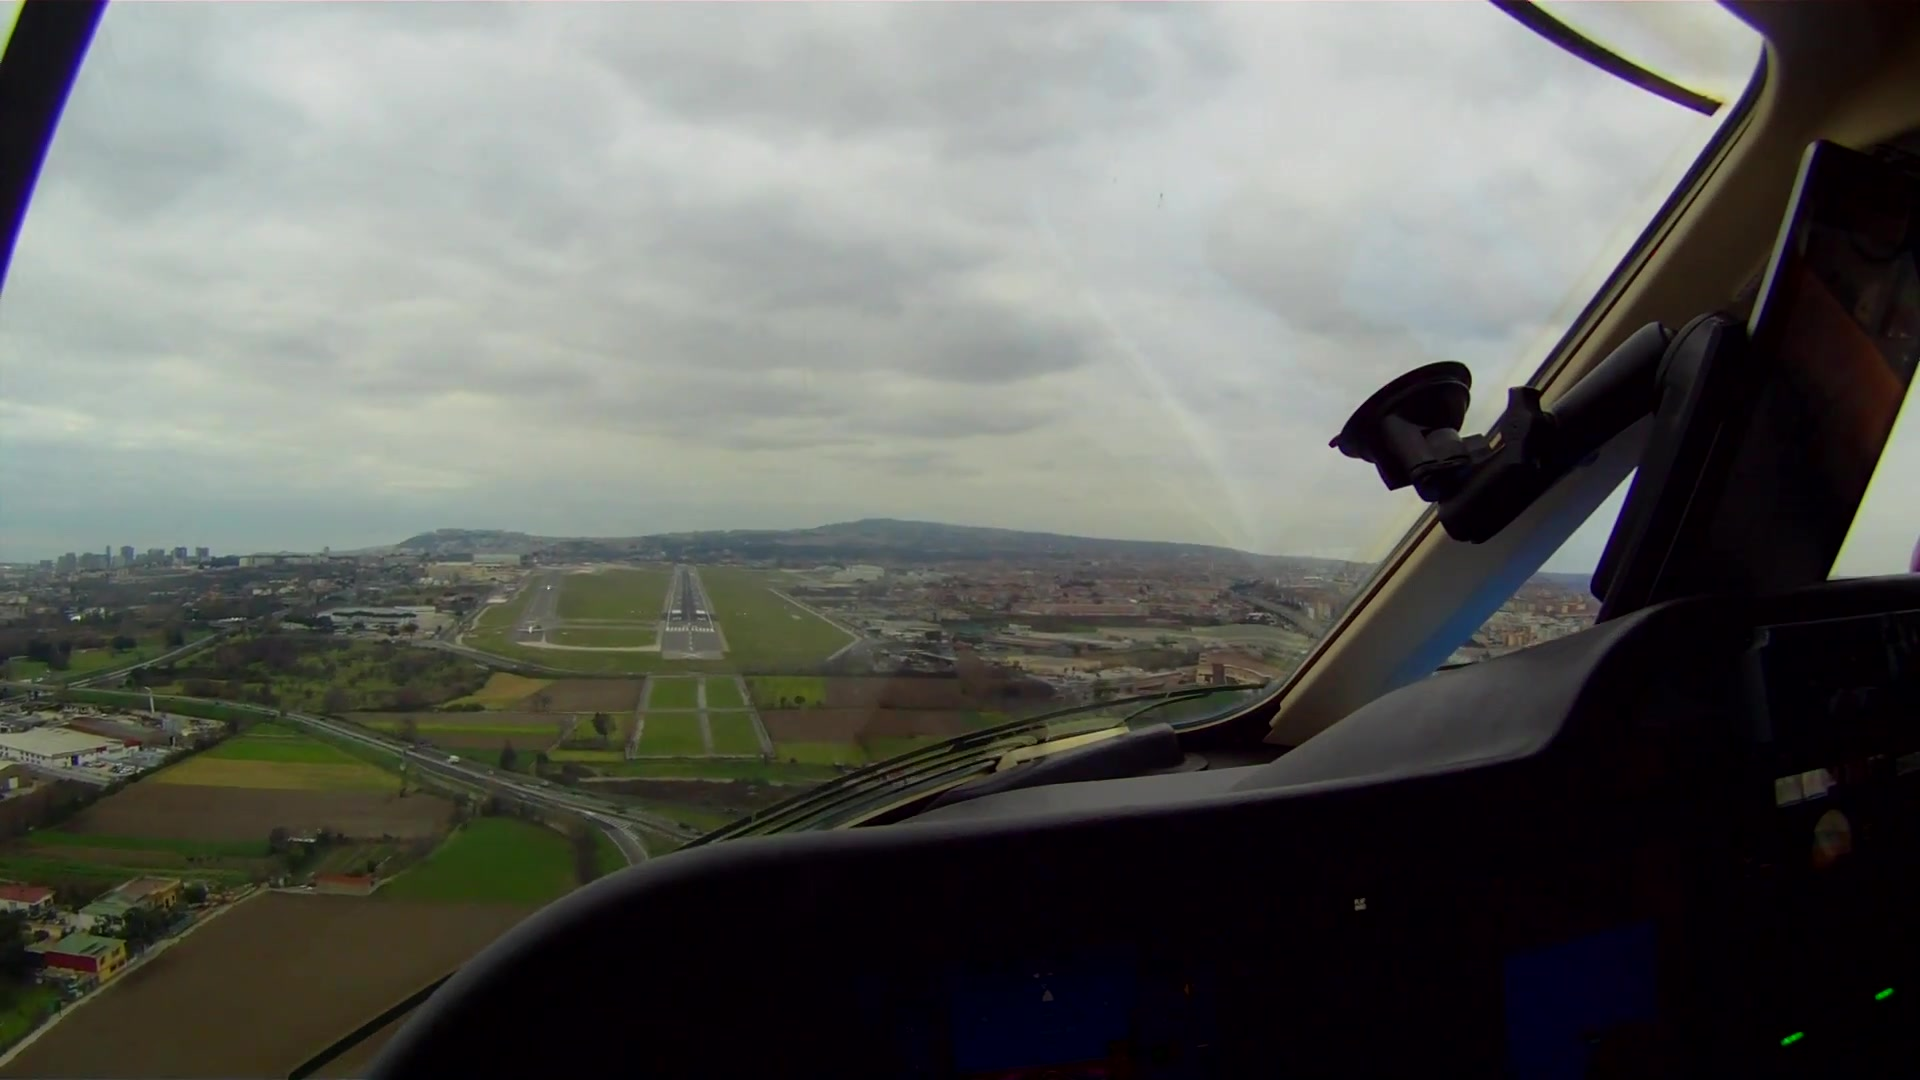entrance: (663, 622, 713, 636)
runway: (658, 564, 725, 658)
